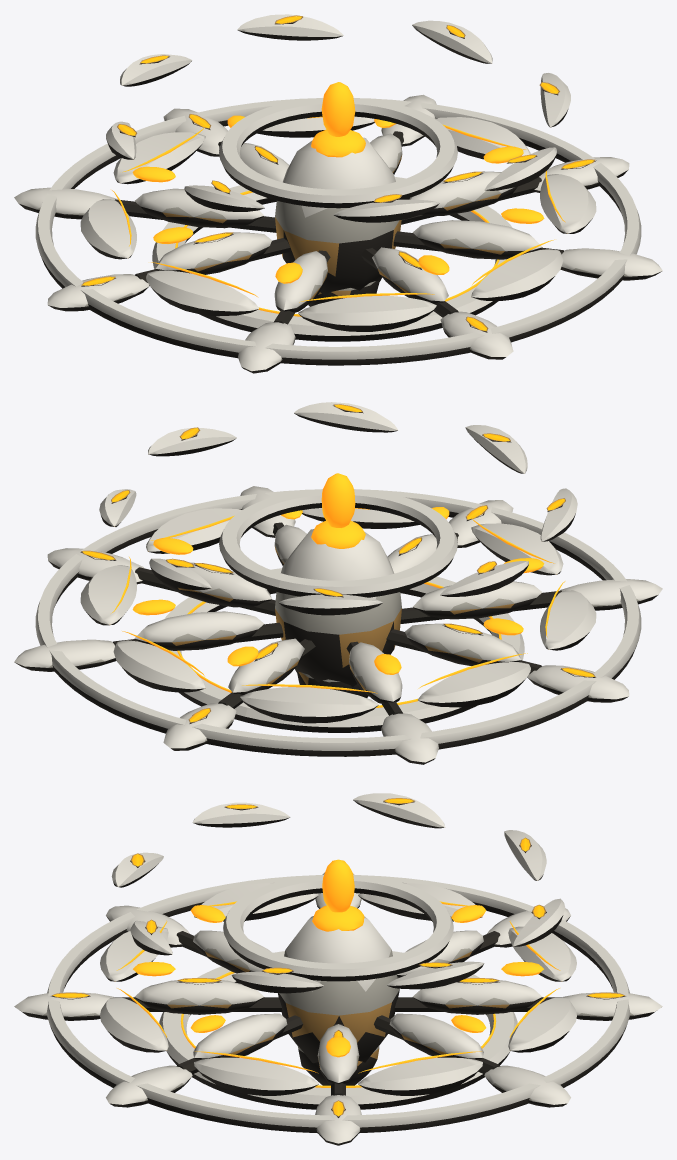
Rendered from 04_zitadelle.glb.
3 renders of one model, top to bottom at view 1: azimuth 30°, elevation 25°; view 2: azimuth 150°, elevation 25°; view 3: azimuth 270°, elevation 25°, orthographic. The views are drawn at different scales.
Parts seen in each view (by area): view 1: Hull, rotating_collar, energy_1; view 2: Hull, rotating_collar, energy_1; view 3: Hull, rotating_collar, energy_1.
Boxes of the visible parts, <box> form: Hull: <box>14,14,662,373</box>; rotating_collar: <box>152,97,512,341</box>; energy_1: <box>311,129,365,157</box>; Hull: <box>14,402,662,764</box>; rotating_collar: <box>164,489,524,732</box>; energy_1: <box>311,521,365,548</box>; Hull: <box>14,793,662,1145</box>; rotating_collar: <box>159,874,517,1109</box>; energy_1: <box>312,905,364,931</box>.
Size of the model in its own units: 40 by 15.4 by 40.
